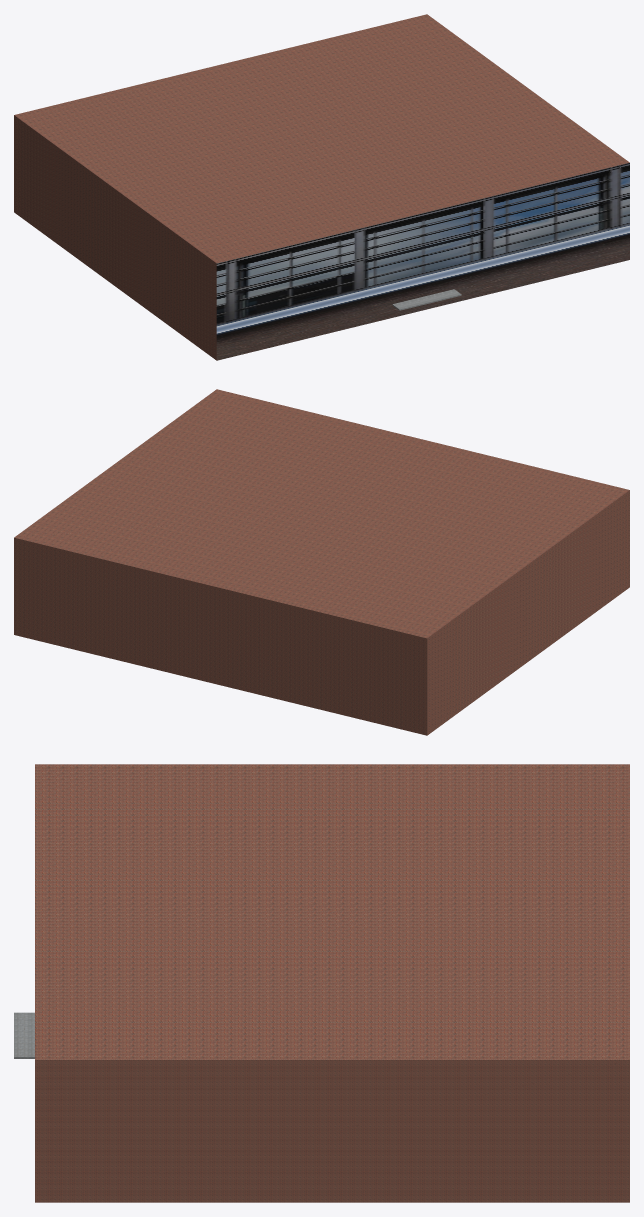
Rendered from ironport-arena_lod0.gltf.
3 views of the same model, one above another, from view 1: azimuth 30°, elevation 25°; view 2: azimuth 150°, elevation 25°; view 3: azimuth 270°, elevation 25° (orthographic). The views are drawn at different scales.
Parts seen in each view (by area): view 1: ironport-arena_main, ironport-arena_front, ironport-arena__entry_canopy; view 2: ironport-arena_main; view 3: ironport-arena_main, ironport-arena__entry_canopy.
Boxes of the visible parts, x1,y1,x2,y2 form: ironport-arena_main: (14, 14, 629, 360); ironport-arena_front: (216, 162, 629, 360); ironport-arena__entry_canopy: (392, 289, 461, 310); ironport-arena_main: (14, 389, 629, 735); ironport-arena_main: (35, 764, 629, 1202); ironport-arena__entry_canopy: (14, 1012, 34, 1058).
Bounding box in the file's own units: 200 × 45 × 176.
